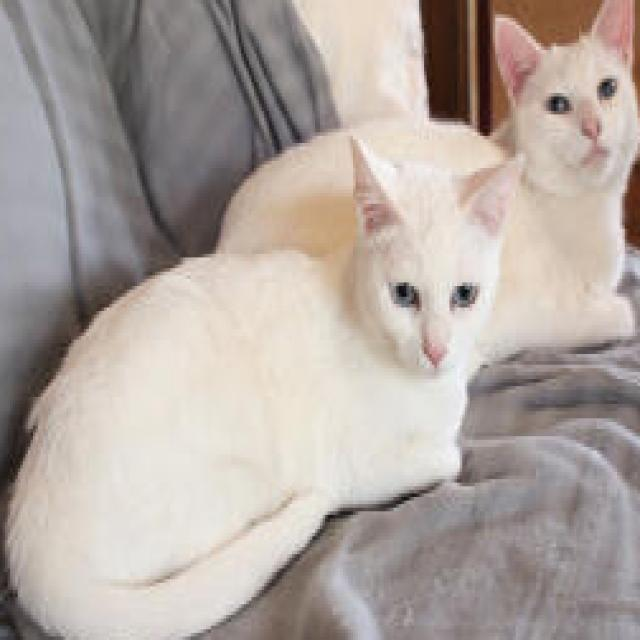Khao Manee: (0, 128, 523, 640), (480, 0, 640, 361)
